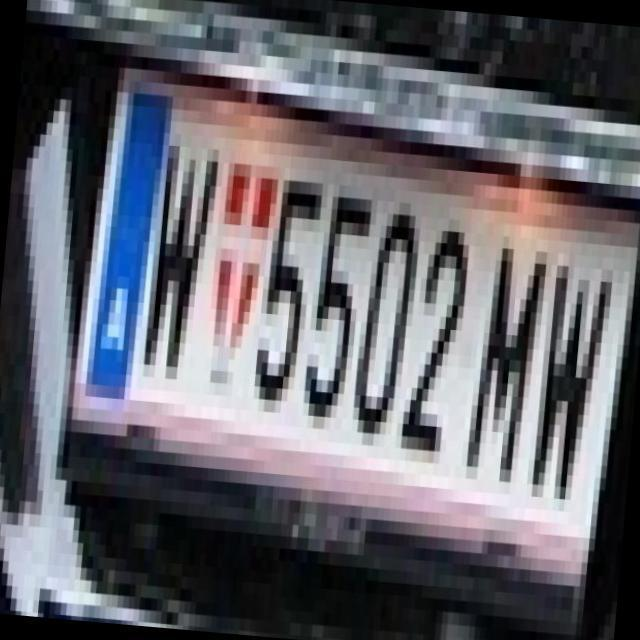License Plate: (57, 51, 636, 590)
